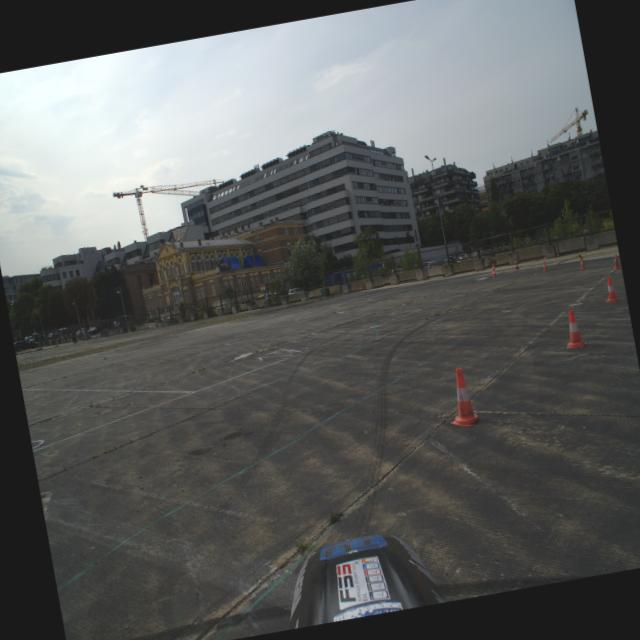large_orange_cone: (489, 262, 498, 276), (512, 257, 520, 269)
orange_cone: (440, 366, 480, 430), (560, 308, 587, 350), (599, 275, 622, 303), (610, 253, 622, 269), (578, 256, 588, 269), (540, 260, 548, 270)
yellow_cone: (576, 252, 582, 260)
